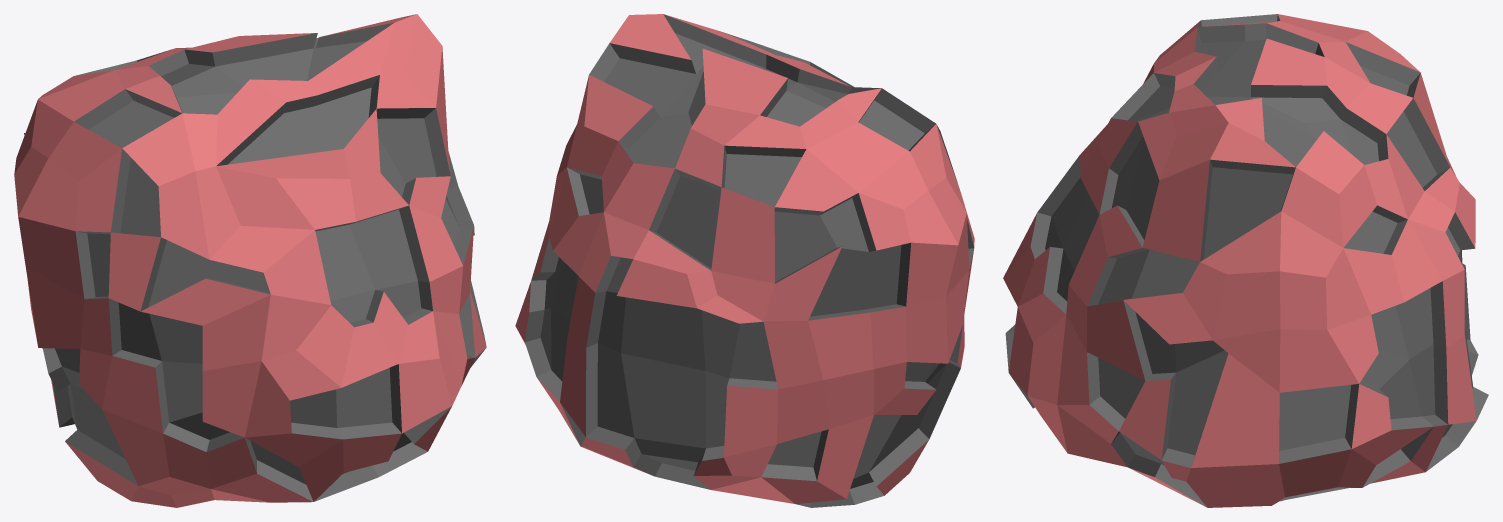
File: OreAndCrystal.fbx
The picture shows the model from 3 angles, left to right: view 1: azimuth 30°, elevation 25°; view 2: azimuth 150°, elevation 25°; view 3: azimuth 270°, elevation 25°; orthographic projection. The views are drawn at different scales.
Visible parts, largest first — view 1: Ore; view 2: Ore; view 3: Ore.
Part boxes in pixels (box(x1,y1,x2,y2)): Ore: box(14, 14, 486, 507); Ore: box(515, 14, 974, 507); Ore: box(1003, 14, 1488, 507).
Bounding box in the file's own units: 236 × 225 × 227.
